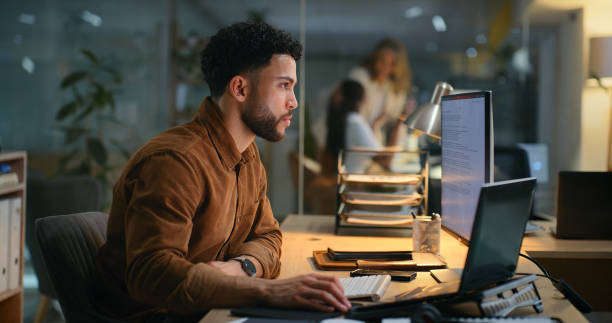Male: (106, 20, 344, 323)
